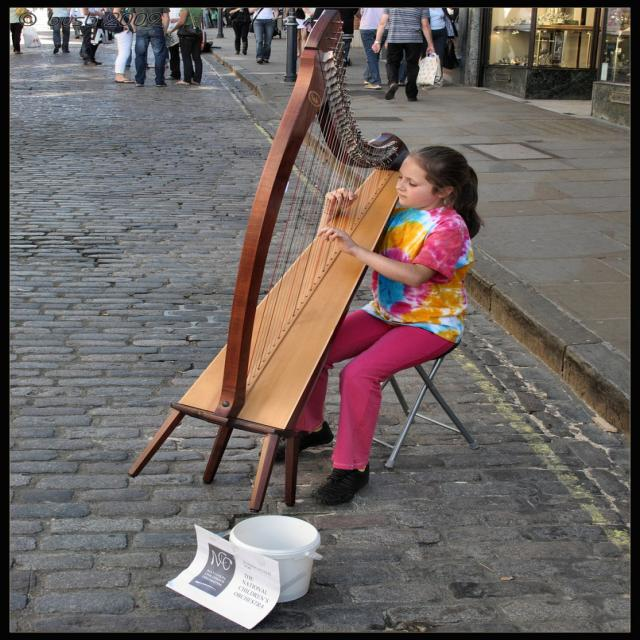harp: (128, 8, 414, 513)
